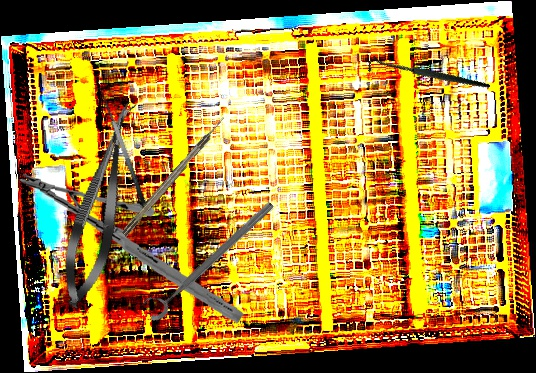Fixation Ring: (137, 191, 278, 325)
Hook Surgical: (364, 15, 491, 138), (120, 115, 228, 237)
Micro Scissor: (52, 95, 149, 313)
Needle Holder: (10, 171, 253, 324)
Spatula Surgical: (89, 83, 151, 217)
